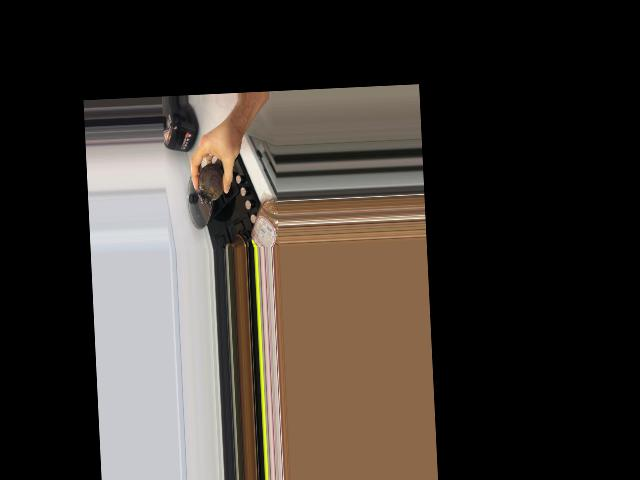beet: (197, 160, 224, 204)
